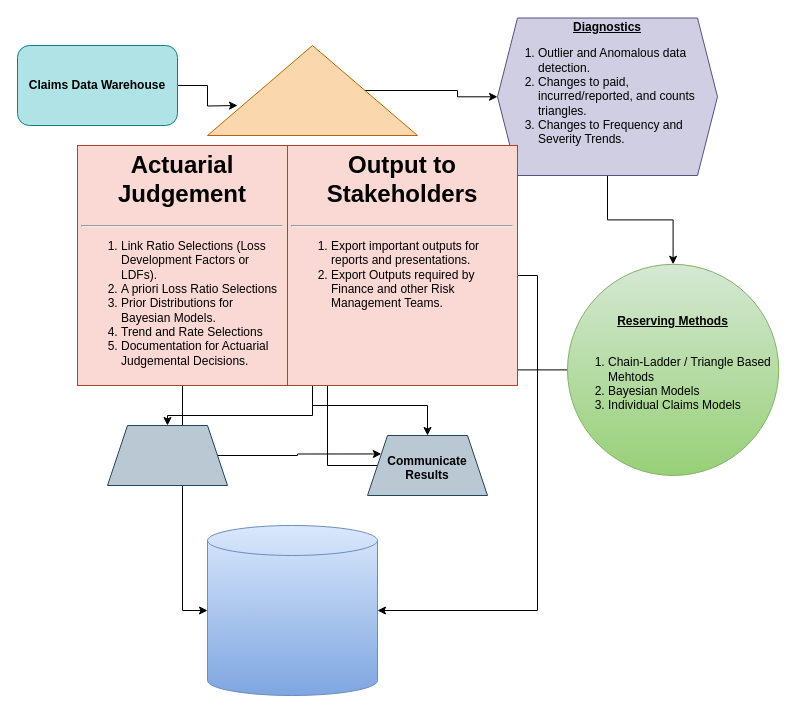
Some shapes in this 797 by 713 pixel diagram are drawn without their labels. Here are the shapes that lost their labels. From the top down, the box of each, then its label:
(206, 44, 418, 136): Loss Development Triangles
(106, 424, 228, 486): Ultimate Loss Selections
(206, 524, 378, 696): Save Results to Database
